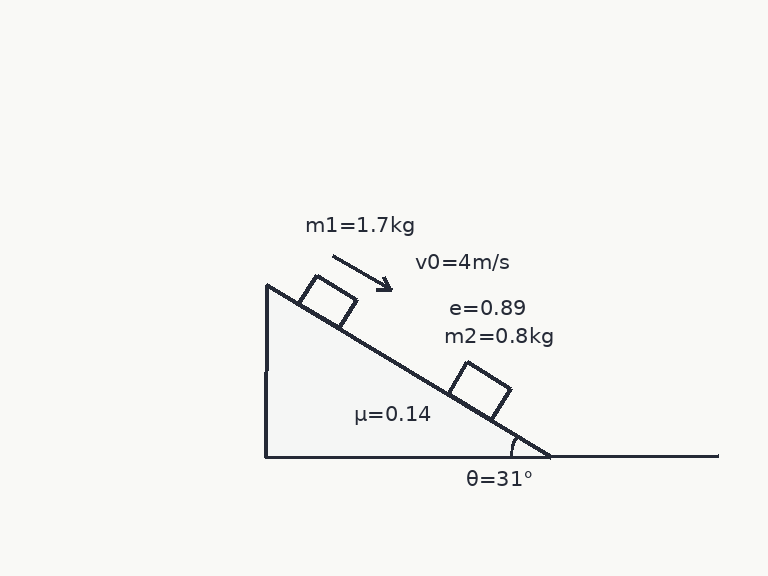block: (445, 360, 512, 422), (296, 273, 358, 330)
ramp: (264, 282, 553, 458)
